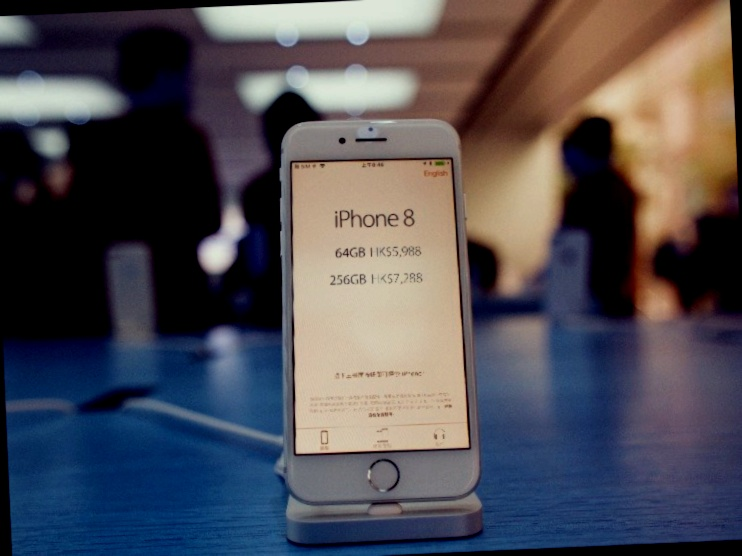iphone: (277, 119, 473, 503)
